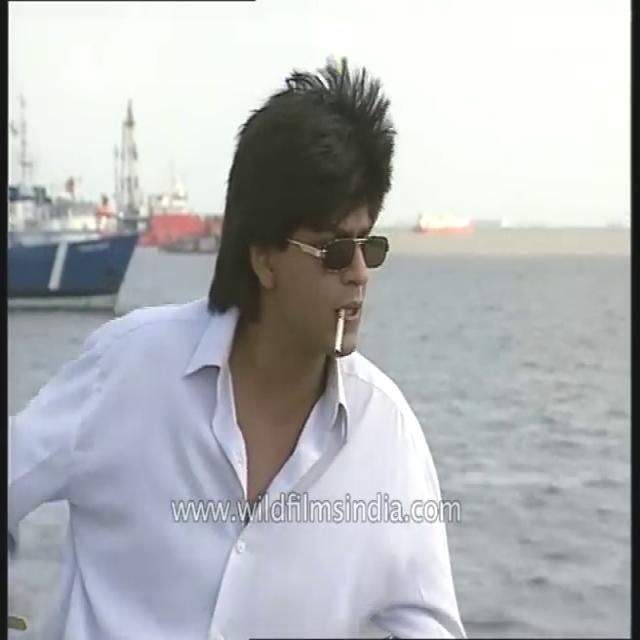Smooking: (324, 295, 352, 359)
